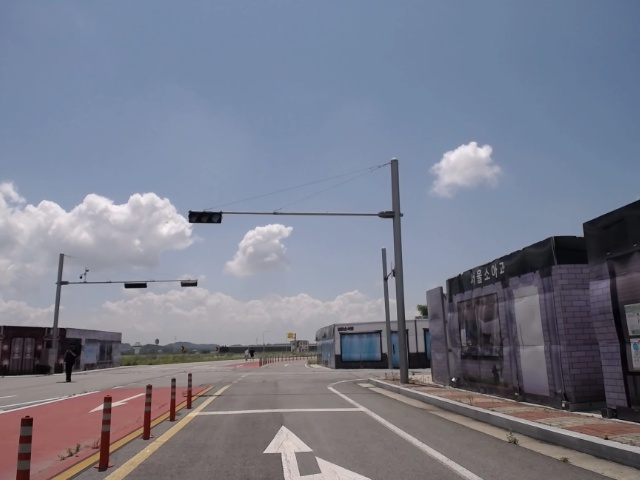green_3: (190, 212, 221, 223)
